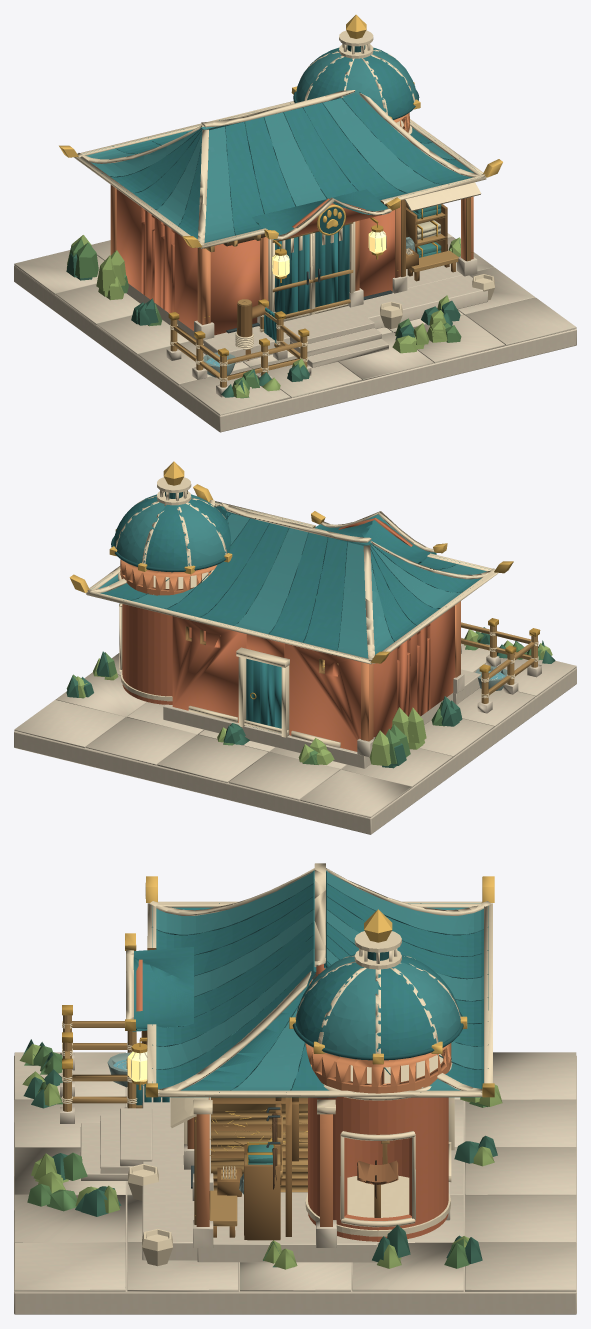
Rendered from beast-lod1-6748ac096386.glb.
3 renders of one model, top to bottom at view 1: azimuth 30°, elevation 25°; view 2: azimuth 150°, elevation 25°; view 3: azimuth 270°, elevation 25°, orthographic. The views are drawn at different scales.
Visible parts, largest first — view 1: BZbatch_0.003, BZbatch_38.003, BZbatch_6.003, BZbatch_35.003, BZbatch_40.003, BZbatch_47.003, BZbatch_41.003, BZbatch_12.003, BZbatch_91.003, BZbatch_70.003, BZbatch_86.003, BZbatch_42.003 (+3 smaller); view 2: BZbatch_0.003, BZbatch_6.003, BZbatch_38.003, BZbatch_35.003, BZbatch_40.003, BZbatch_12.003, BZbatch_91.003, BZbatch_47.003, BZbatch_86.003, BZbatch_42.003, BZbatch_41.003, BZbatch_90.003; view 3: BZbatch_0.003, BZbatch_38.003, BZbatch_40.003, BZbatch_35.003, BZbatch_6.003, BZbatch_47.003, BZbatch_70.003, BZbatch_12.003, BZbatch_91.003, BZbatch_86.003, BZbatch_41.003, BZbatch_42.003 (+4 smaller).
Boxes of the visible parts, x1,y1,x2,y2 form: BZbatch_0.003: (14, 233, 576, 432); BZbatch_38.003: (106, 47, 475, 347); BZbatch_6.003: (116, 189, 394, 335); BZbatch_35.003: (81, 51, 454, 248); BZbatch_40.003: (74, 30, 494, 381); BZbatch_47.003: (170, 212, 459, 387); BZbatch_41.003: (102, 45, 459, 314); BZbatch_12.003: (110, 112, 473, 324); BZbatch_91.003: (67, 235, 460, 397); BZbatch_70.003: (237, 197, 470, 361); BZbatch_86.003: (66, 240, 460, 397); BZbatch_42.003: (59, 14, 502, 247); BZbatch_0.003: (14, 637, 576, 834); BZbatch_6.003: (122, 518, 454, 751); BZbatch_38.003: (100, 497, 481, 730); BZbatch_35.003: (91, 494, 489, 663); BZbatch_40.003: (86, 477, 538, 747); BZbatch_12.003: (120, 559, 460, 741); BZbatch_91.003: (75, 629, 552, 765); BZbatch_47.003: (322, 622, 537, 703); BZbatch_86.003: (66, 627, 555, 768); BZbatch_42.003: (69, 461, 513, 667); BZbatch_41.003: (111, 492, 470, 650); BZbatch_90.003: (66, 631, 542, 764); BZbatch_0.003: (14, 1052, 576, 1314); BZbatch_38.003: (132, 870, 488, 1105); BZbatch_40.003: (61, 863, 492, 1266); BZbatch_35.003: (152, 870, 488, 1097); BZbatch_6.003: (136, 959, 448, 1241); BZbatch_47.003: (63, 1015, 389, 1235); BZbatch_70.003: (141, 948, 387, 1240); BZbatch_12.003: (187, 1043, 451, 1226); BZbatch_91.003: (19, 1044, 502, 1269); BZbatch_86.003: (23, 1039, 497, 1267); BZbatch_41.003: (152, 883, 488, 1092); BZbatch_42.003: (125, 876, 494, 1151).
Size of the model in its own units: 10 by 6.82 by 10.
23 materials, 11 textured.
